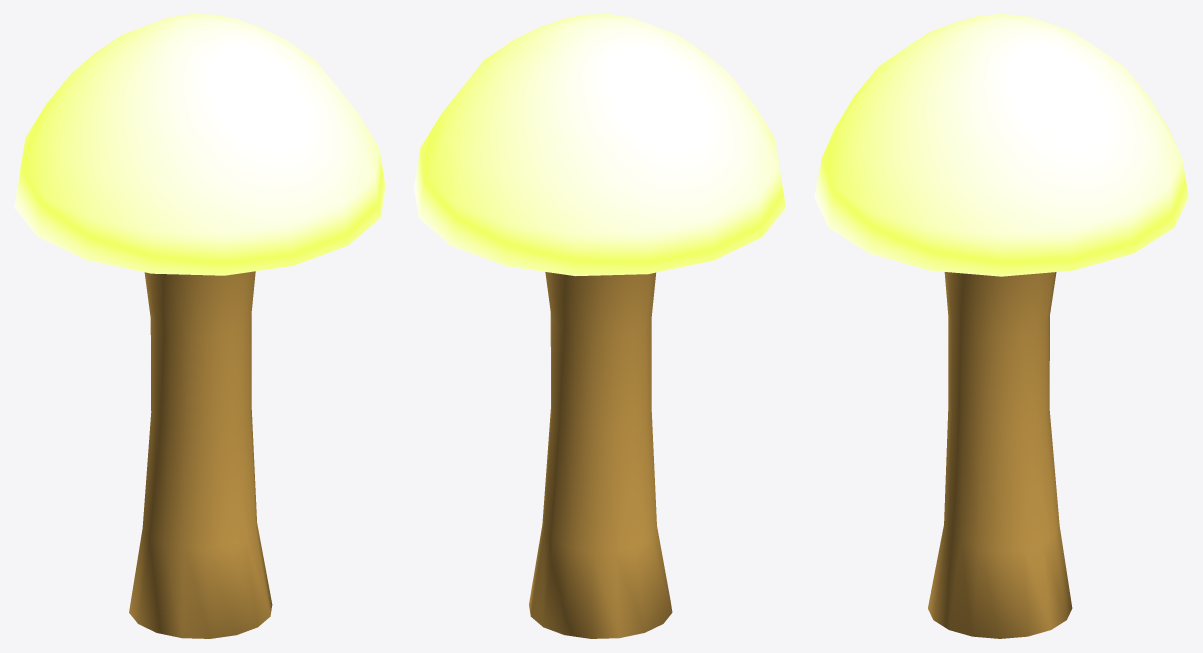
Rendered from cosgurmelocolorido5.fbx.
3 renders of one model, left to right at view 1: azimuth 30°, elevation 25°; view 2: azimuth 150°, elevation 25°; view 3: azimuth 270°, elevation 25°, orthographic.
Parts seen in each view (by area): view 1: cogumelo4; view 2: cogumelo4; view 3: cogumelo4.
Part boxes in pixels (x1,y1,x2,y2): cogumelo4: (14,14,385,638); cogumelo4: (414,14,785,638); cogumelo4: (814,14,1188,638).
Size of the model in its own units: 114 by 195 by 114.
